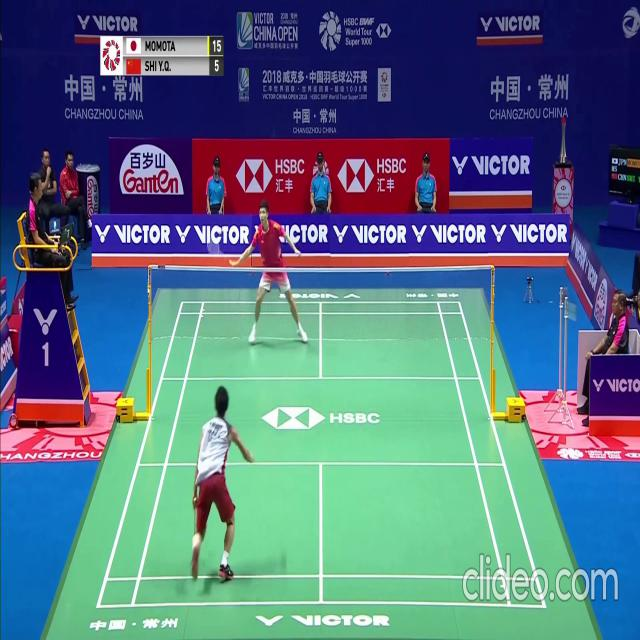Shuttlecock: (218, 227, 222, 235)
